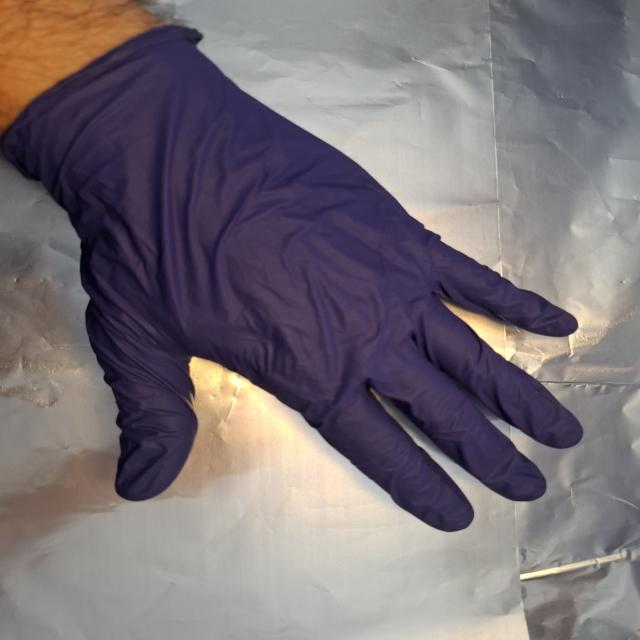glove_on: (10, 24, 591, 536)
